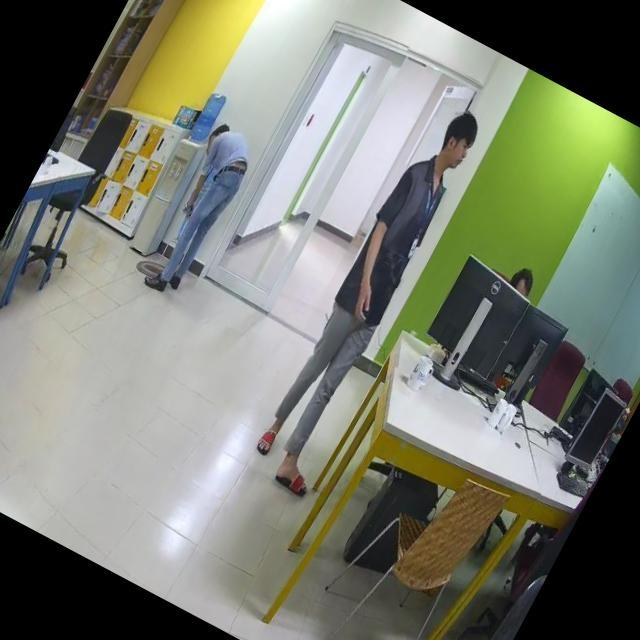person: (245, 94, 498, 494), (133, 120, 262, 303)
